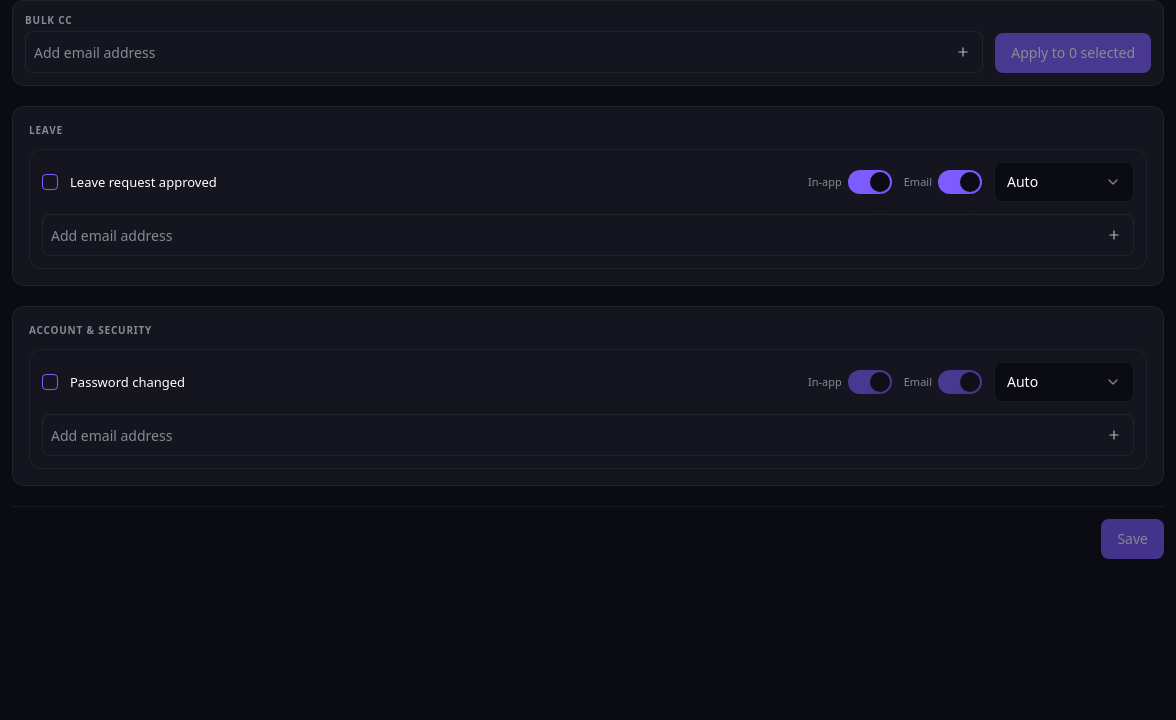
Test case: NotificationRoutingTab › surfaces a save error
Expected: the text "Leave request approved" is shown, x1=70 y1=173 x2=217 y2=191
Step 1. Type "hr@provintell.com" into the field with placeholder "Add email address" below "Leave request approved" → (574, 235), box x1=51 y1=221 x2=1097 y2=249
Then press Enter
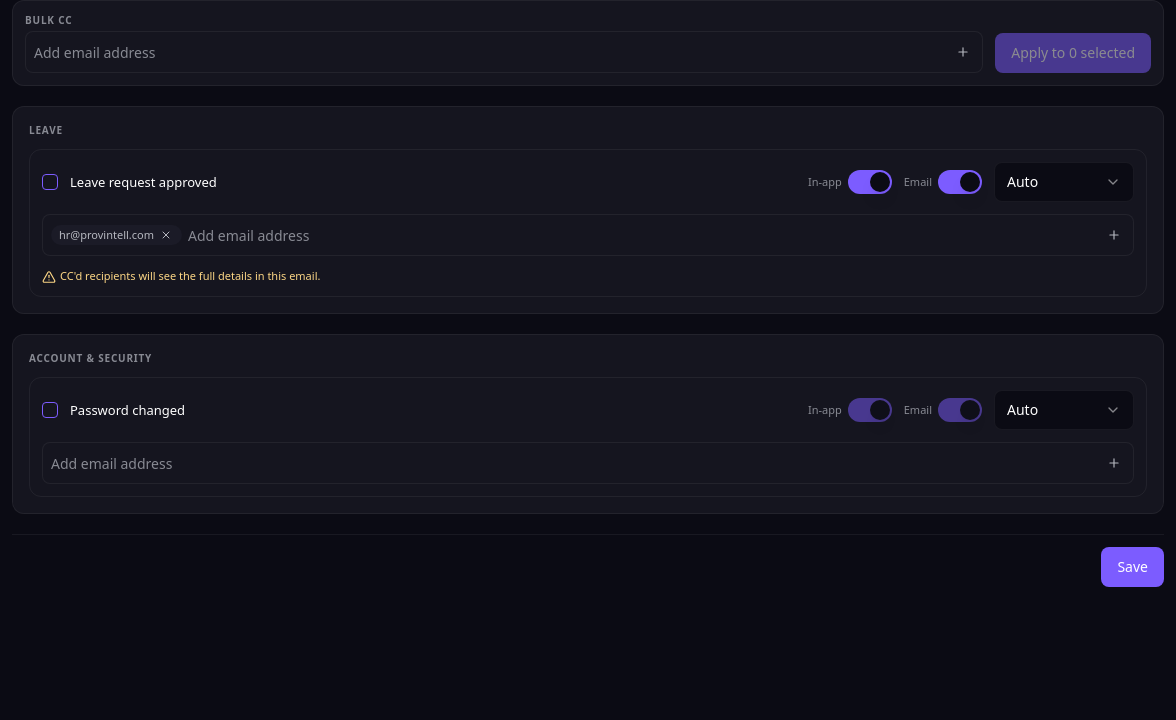
Step 2. Click the button "Save" → (1133, 567), box x1=1101 y1=547 x2=1164 y2=587
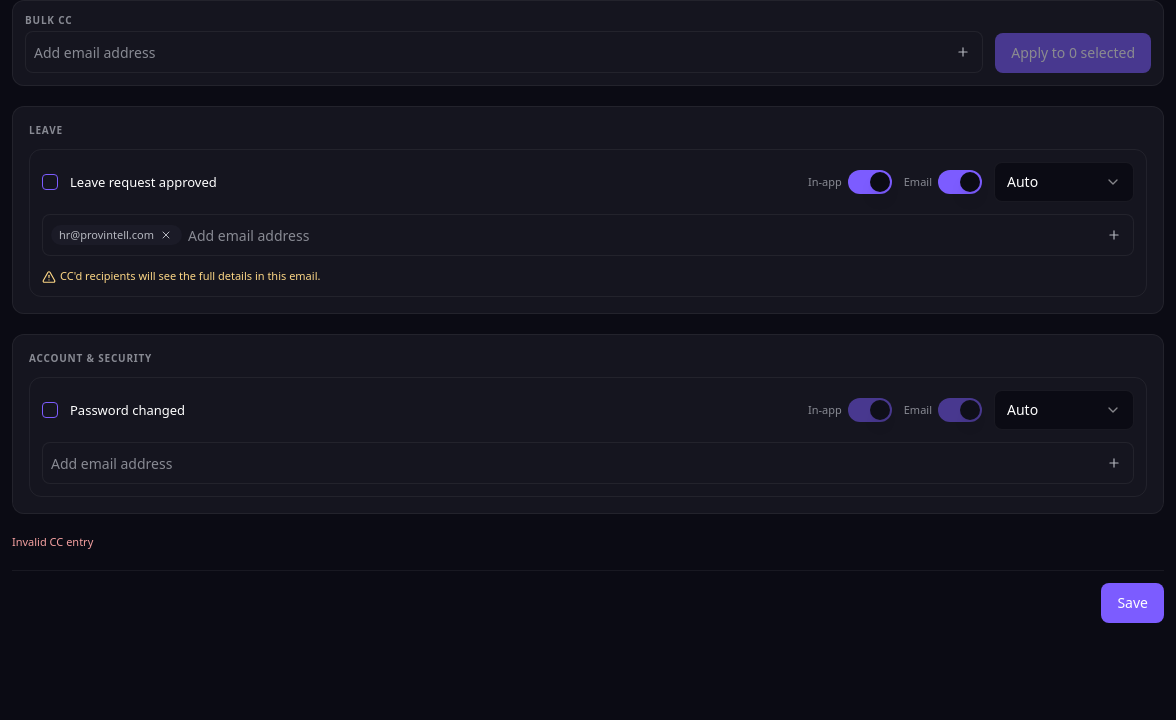
Expected: the text "Invalid CC entry" is shown, x1=12 y1=534 x2=93 y2=549
